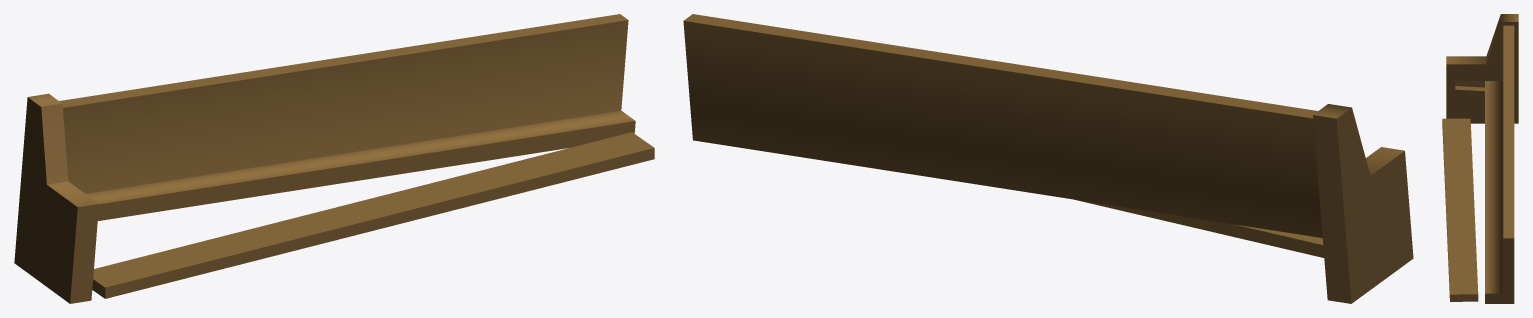
Rendered from AI_Prop_Church_Pew_Broken.fbx.
3 views of the same model, side by side, from view 1: azimuth 30°, elevation 25°; view 2: azimuth 150°, elevation 25°; view 3: azimuth 270°, elevation 25° (orthographic). The views are drawn at different scales.
Parts seen in each view (by area): view 1: AI_Prop_Church_Pew_Broken; view 2: AI_Prop_Church_Pew_Broken; view 3: AI_Prop_Church_Pew_Broken.
Part boxes in pixels (box(x1,y1,x2,y2)): AI_Prop_Church_Pew_Broken: box(14, 14, 654, 303); AI_Prop_Church_Pew_Broken: box(683, 14, 1413, 303); AI_Prop_Church_Pew_Broken: box(1442, 14, 1518, 303).
Size of the model in its own units: 3.86 by 1.01 by 0.6511.
